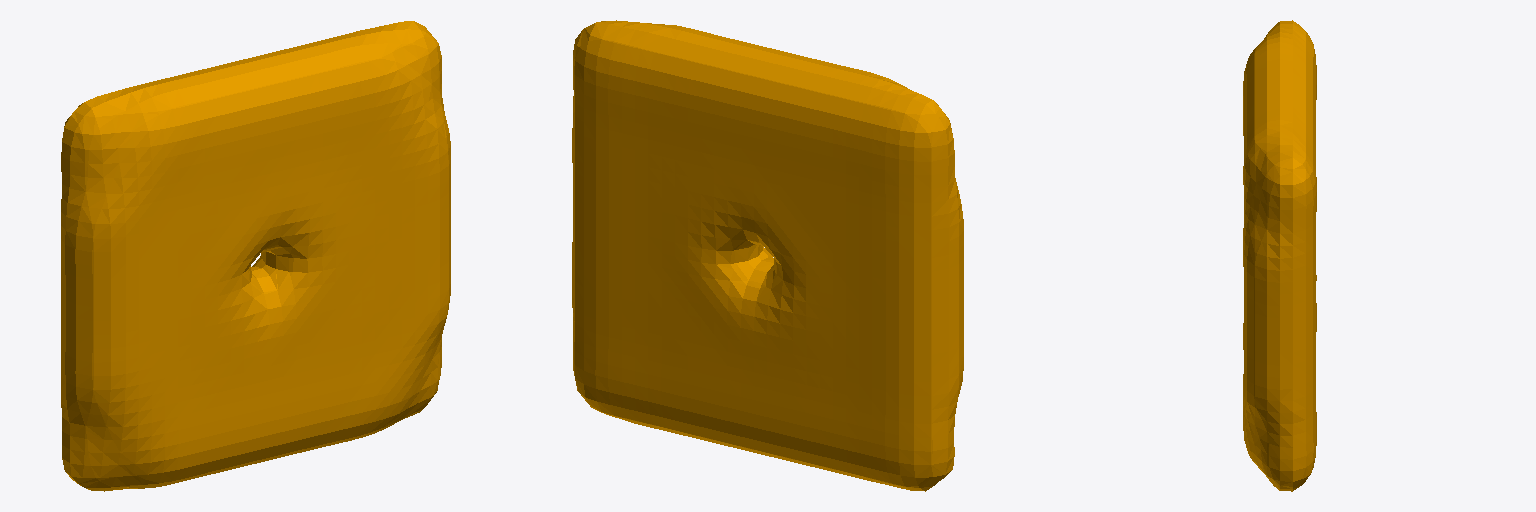
The robot description file, URDF, robot "X06_0":
<?xml version="1.0"?>
<robot name="X06_0">
  <link name="base_link">
    <inertial>
      <mass value="0.12460" />
      <origin xyz="0 0 0" />
      <inertia  ixx="0.0002" ixy="0.0"  ixz="0.0"  iyy="0.0002"  iyz="0.0" izz="0.0002" />
    </inertial>
    <visual>
      <geometry>
        <mesh filename="../../../meshes/egad/train/X06_0.obj" />
      </geometry>
    </visual>
    <collision>
      <geometry>
        <mesh filename="../../../meshes/egad/train/X06_0.obj" />
      </geometry>
    </collision>
  </link>
</robot>

--- Facts derived from the render (not from the file) ---
Views: 3 orthographic renders of the robot side by side, from view 1: azimuth 30°, elevation 25°; view 2: azimuth 150°, elevation 25°; view 3: azimuth 270°, elevation 25°.
Robot: X06_0 — 1 links, 0 joints (none); root link base_link; default pose: every joint at zero.
Visible links, largest first — view 1: base_link; view 2: base_link; view 3: base_link.
Link boxes in pixels (bbox=[...]): base_link: bbox=[61, 21, 450, 491]; base_link: bbox=[572, 20, 963, 491]; base_link: bbox=[1243, 20, 1316, 491].
Bounding box of the posed robot: 0.075 × 0.0145 × 0.075 m (x, y, z).
1 mesh visuals loaded from 1 distinct referenced files (1 OBJ).